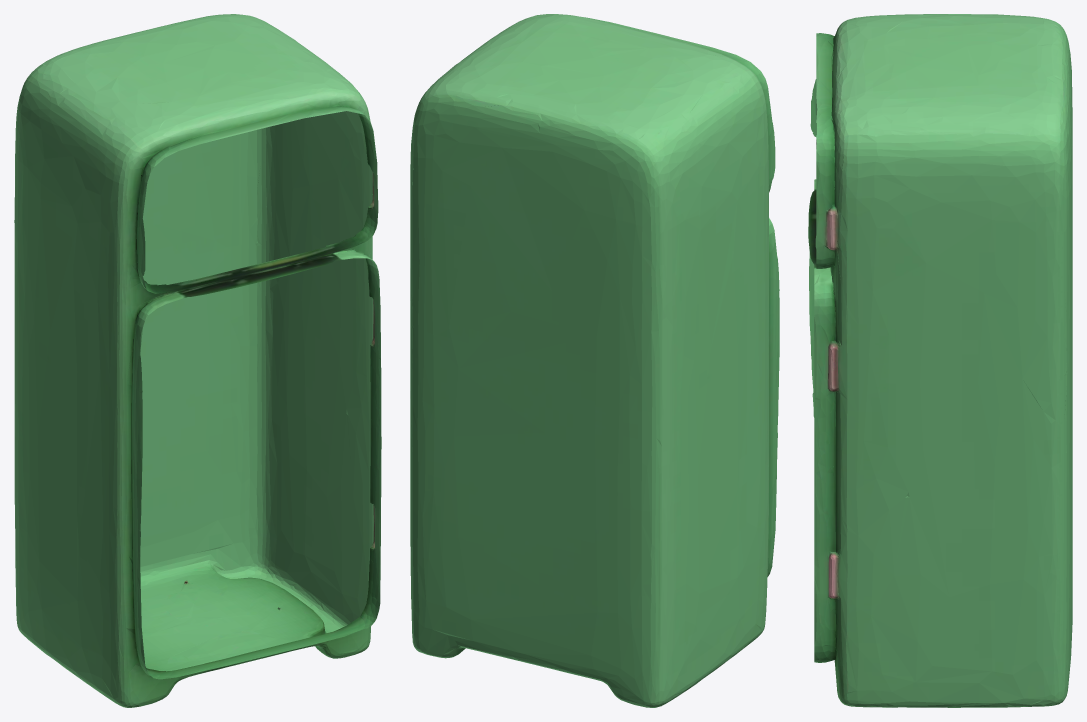
Rendered from body.glb.
3 renders of one model, left to right at view 1: azimuth 30°, elevation 25°; view 2: azimuth 150°, elevation 25°; view 3: azimuth 270°, elevation 25°, orthographic.
Visible parts, largest first — view 1: source_surface_0; view 2: source_surface_0; view 3: source_surface_0.
Part boxes in pixels (x1=…): source_surface_0: x1=14, y1=14, x2=381, y2=707; source_surface_0: x1=410, y1=14, x2=779, y2=707; source_surface_0: x1=808, y1=14, x2=1072, y2=707.
Size of the model in its own units: 1.5 by 3.13 by 1.27.
1 material, 1 textured.
